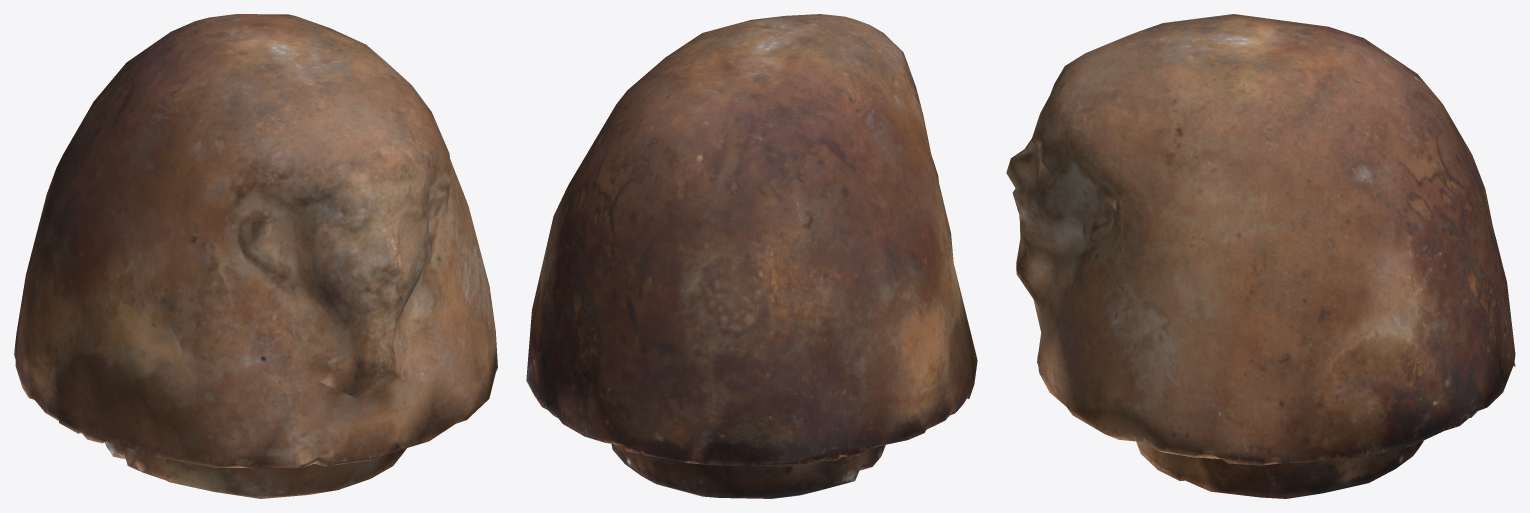
Rendered from Canopic_Jar_With_a_Lid_Head.fbx.
The picture shows the model from 3 angles, left to right: view 1: azimuth 30°, elevation 25°; view 2: azimuth 150°, elevation 25°; view 3: azimuth 270°, elevation 25°; orthographic projection. The views are drawn at different scales.
Parts seen in each view (by area): view 1: Canopic_Jar_With_a_Lid_Head_LOD0; view 2: Canopic_Jar_With_a_Lid_Head_LOD0; view 3: Canopic_Jar_With_a_Lid_Head_LOD0.
Boxes of the visible parts, x1,y1,x2,y2 form: Canopic_Jar_With_a_Lid_Head_LOD0: [14, 14, 497, 498]; Canopic_Jar_With_a_Lid_Head_LOD0: [526, 14, 977, 498]; Canopic_Jar_With_a_Lid_Head_LOD0: [1006, 14, 1515, 498].
Size of what is drawn, in the model's own units: 22.99 by 21.57 by 24.78.
